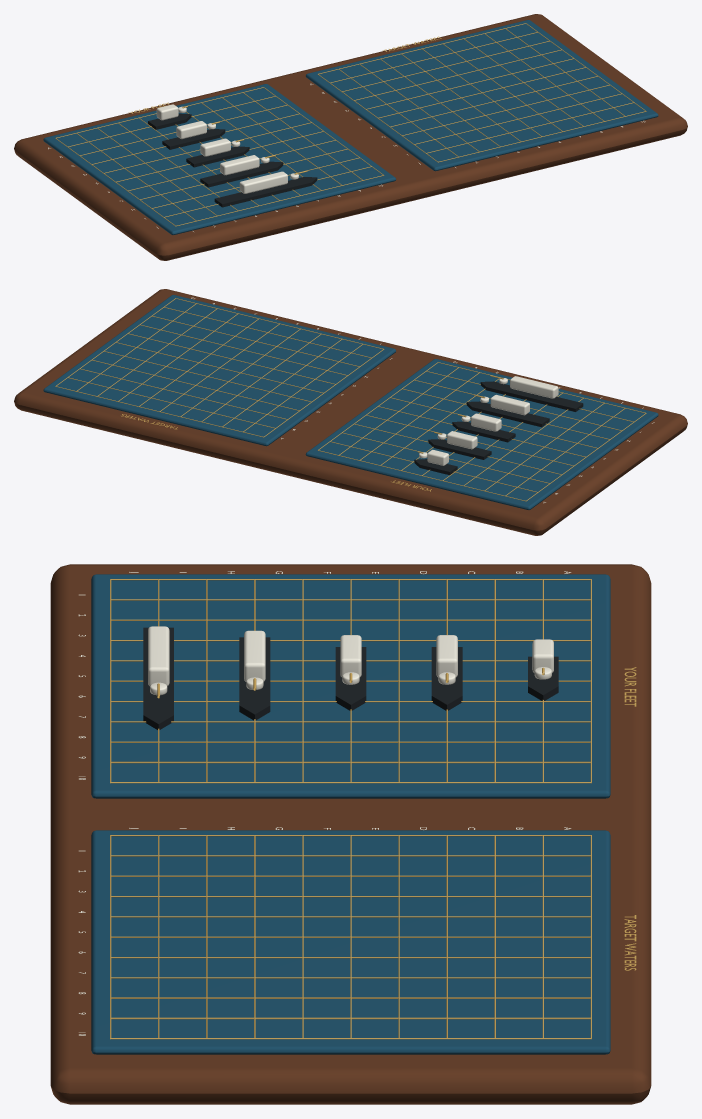
Rendered from Fleet_Command.glb.
3 views of the same model, one above another, from view 1: azimuth 30°, elevation 25°; view 2: azimuth 150°, elevation 25°; view 3: azimuth 270°, elevation 25° (orthographic). The views are drawn at different scales.
Visible parts, largest first — view 1: Ocean board.001, Naval command base, Ocean board, Fleet ship 0, Fleet ship 1, Ship superstructure, Fleet ship 2, Fleet ship 3, Ship superstructure.001, Ship superstructure.002, Ship superstructure.003; view 2: Ocean board.001, Naval command base, Ocean board, Fleet ship 0, Fleet ship 1, Ship superstructure, Fleet ship 3, Fleet ship 2, Ship superstructure.001, Ship superstructure.002, Ship superstructure.003; view 3: Ocean board.001, Ocean board, Naval command base, Fleet ship 0, Fleet ship 1, Grid.041, Grid.019, Ship superstructure, Fleet ship 2, Fleet ship 3, Ship superstructure.001, Grid.021 (+18 smaller).
Part boxes in pixels (x1=…): Ocean board.001: x1=306, y1=20, x2=658, y2=171; Naval command base: x1=14, y1=14, x2=687, y2=260; Ocean board: x1=43, y1=84, x2=396, y2=234; Fleet ship 0: x1=214, y1=177, x2=317, y2=207; Fleet ship 1: x1=200, y1=161, x2=283, y2=187; Ship superstructure: x1=239, y1=171, x2=287, y2=193; Fleet ship 2: x1=186, y1=146, x2=249, y2=167; Fleet ship 3: x1=162, y1=129, x2=225, y2=149; Ship superstructure.001: x1=220, y1=155, x2=259, y2=175; Ship superstructure.002: x1=200, y1=138, x2=230, y2=156; Ship superstructure.003: x1=176, y1=121, x2=206, y2=138; Ocean board.001: x1=43, y1=295, x2=395, y2=446; Naval command base: x1=14, y1=289, x2=687, y2=535; Ocean board: x1=305, y1=359, x2=658, y2=509; Fleet ship 0: x1=480, y1=381, x2=583, y2=411; Fleet ship 1: x1=466, y1=401, x2=549, y2=427; Ship superstructure: x1=510, y1=376, x2=558, y2=398; Fleet ship 3: x1=428, y1=439, x2=491, y2=459; Fleet ship 2: x1=452, y1=421, x2=515, y2=442; Ship superstructure.001: x1=490, y1=394, x2=529, y2=415; Ship superstructure.002: x1=471, y1=413, x2=501, y2=431; Ship superstructure.003: x1=447, y1=431, x2=477, y2=449; Ocean board.001: x1=91, y1=830, x2=610, y2=1054; Ocean board: x1=91, y1=574, x2=610, y2=798; Naval command base: x1=50, y1=564, x2=651, y2=1104; Fleet ship 0: x1=143, y1=627, x2=173, y2=729; Fleet ship 1: x1=239, y1=637, x2=270, y2=720; Grid.041: x1=111, y1=1017, x2=590, y2=1019; Grid.019: x1=111, y1=761, x2=590, y2=763; Ship superstructure: x1=148, y1=626, x2=169, y2=686; Fleet ship 2: x1=335, y1=647, x2=366, y2=710; Fleet ship 3: x1=431, y1=647, x2=462, y2=710; Ship superstructure.001: x1=244, y1=630, x2=265, y2=681; Grid.021: x1=110, y1=782, x2=591, y2=783.
Bounding box in the file's own units: 2.55 × 0.1675 × 1.25.
